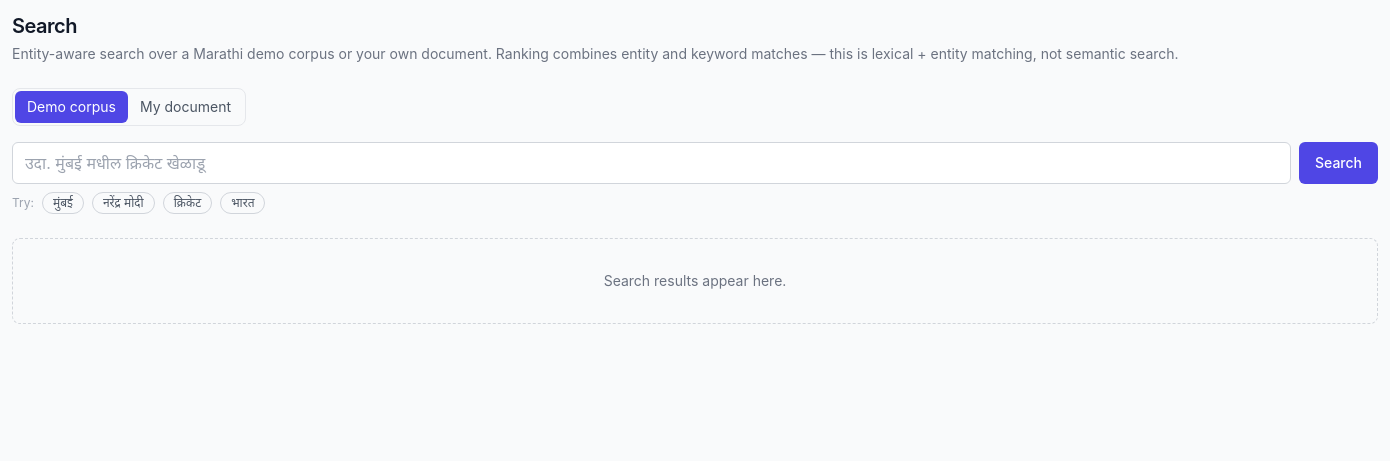
Test case: Search › runs a search and lists results
The image size is (1390, 461).
Step 1. Type "मुंबई" into the field named "search query" → (652, 163), box [12, 142, 1291, 184]
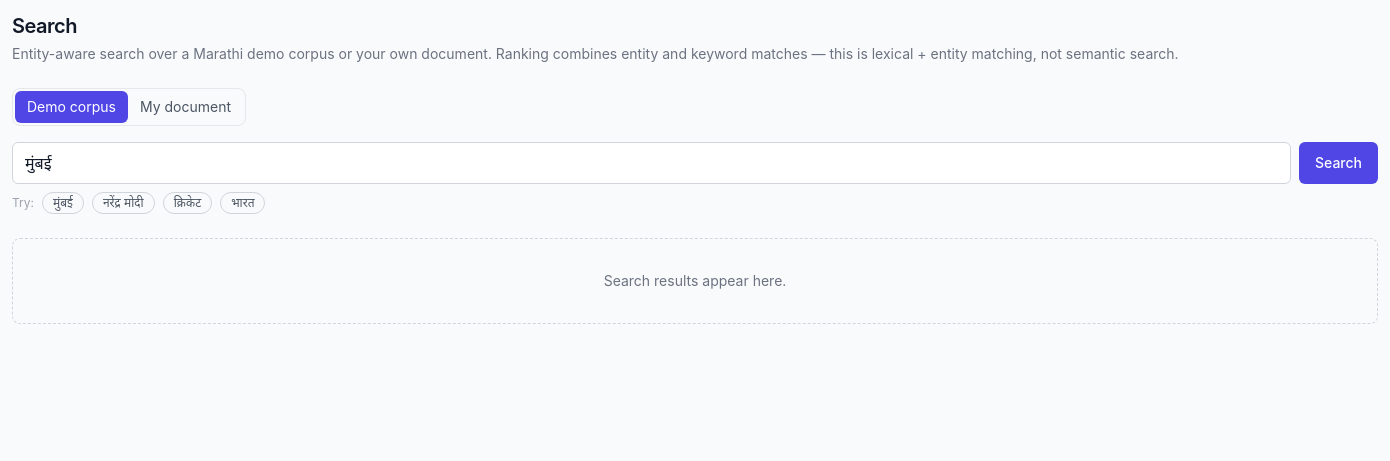
Step 2. Click the button "Search" → (1338, 163), box [1299, 142, 1378, 184]
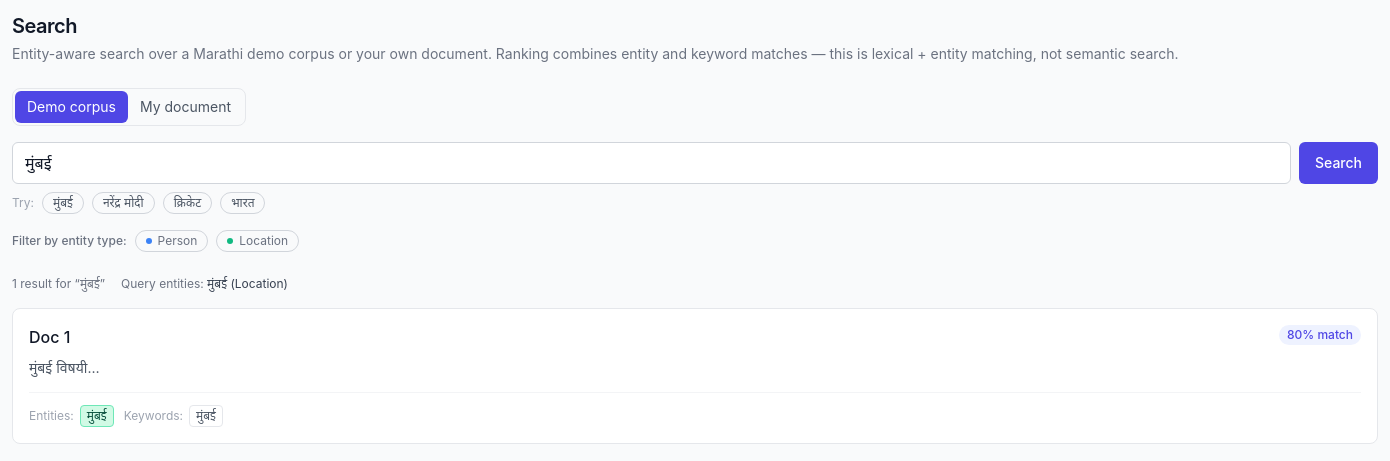
expect the heading "Doc 1" is shown: met, box [29, 325, 70, 349]
expect the text "80% match" is shown: met, box [1279, 325, 1361, 345]
